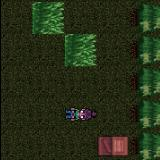Hide: (91, 129, 127, 160)
Obstacle: (127, 2, 160, 34), (127, 34, 160, 66), (127, 66, 160, 97), (127, 98, 160, 129), (127, 129, 160, 160)
Slow: (64, 34, 96, 66), (31, 2, 63, 34)
Victim: (61, 100, 98, 128)
